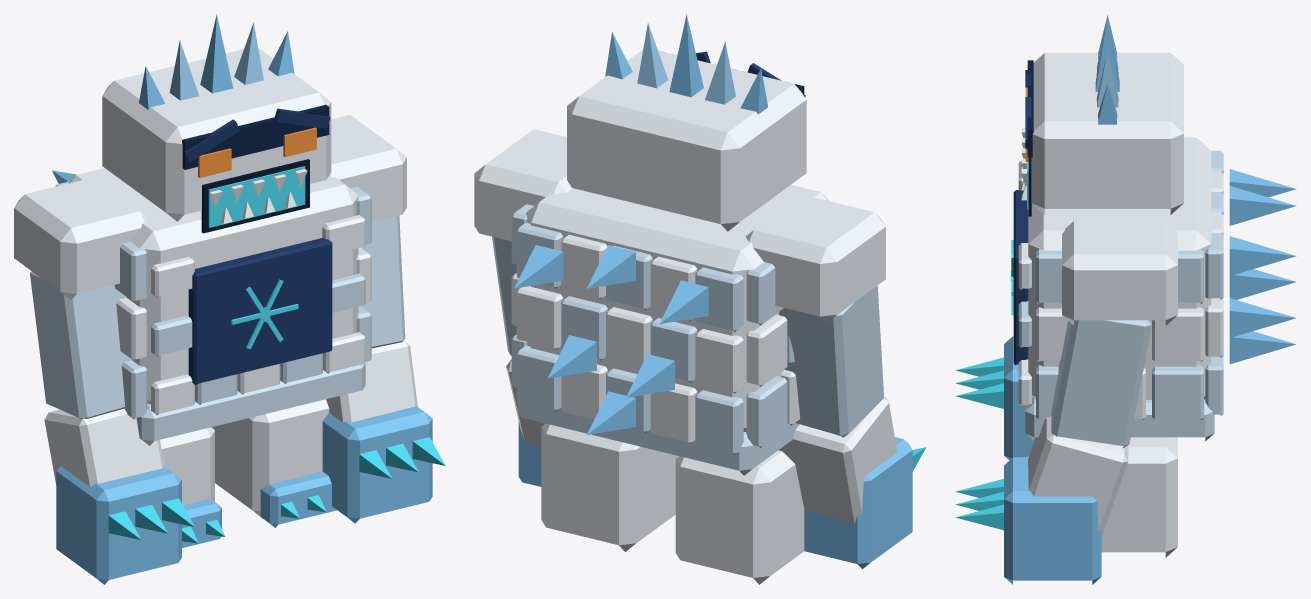
Rendered from r2_boss_yeti_king.glb.
3 views of the same model, side by side, from view 1: azimuth 30°, elevation 25°; view 2: azimuth 150°, elevation 25°; view 3: azimuth 270°, elevation 25° (orthographic). The views are drawn at different scales.
Parts seen in each view (by area): view 1: r2_boss_yeti_king_mesh; view 2: r2_boss_yeti_king_mesh; view 3: r2_boss_yeti_king_mesh.
Boxes of the visible parts, <box> form: r2_boss_yeti_king_mesh: <box>14,14,445,584</box>; r2_boss_yeti_king_mesh: <box>474,14,926,584</box>; r2_boss_yeti_king_mesh: <box>955,15,1296,584</box>.
Bounding box in the file's own units: 5.81 × 8 × 5.01.
Materials: 1 (1 with a texture image).
